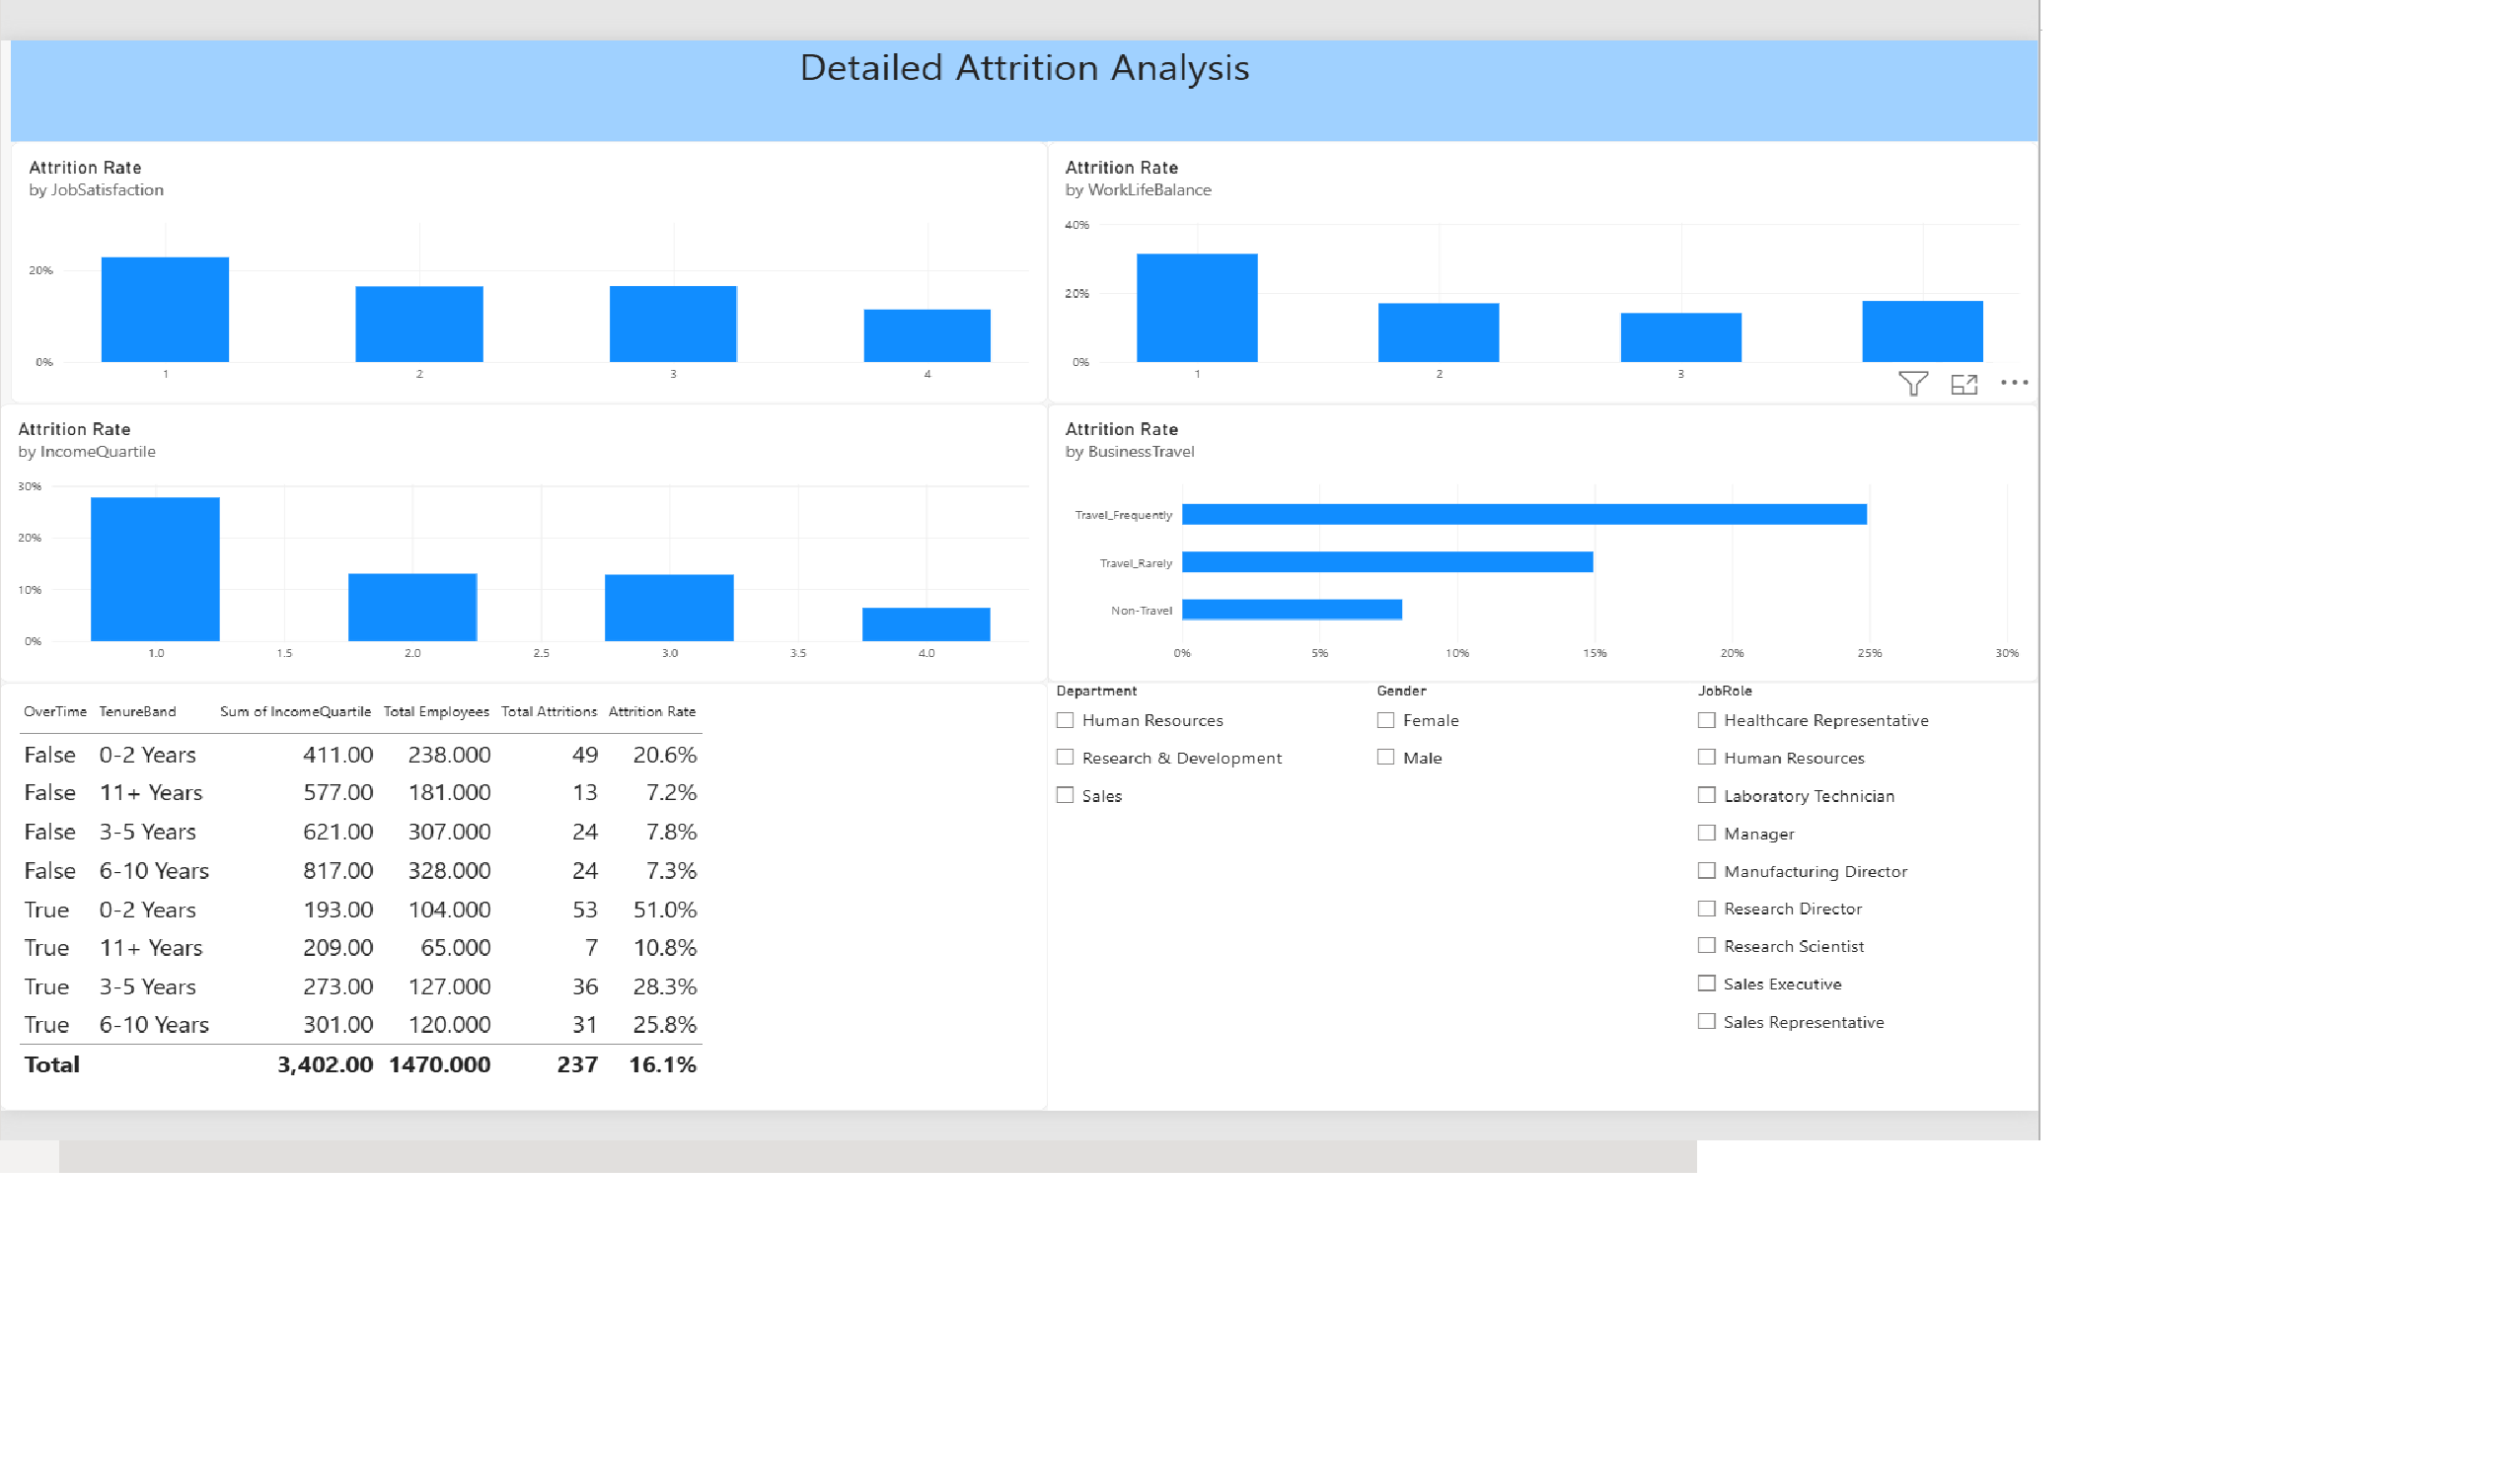

This screenshot's page, from the dashboard's own definition file:
{"tool":"powerbi","page":{"name":"Detailed Analysis","canvas":[1920,1080],"ordinal":1},"visuals":[{"type":"textbox","box":[10.4,0,1910.2,102.5],"z":0},{"type":"clusteredColumnChart","fields":{"Category":["employees.JobSatisfaction"],"Y":["employees.Attrition Rate"]},"box":[10.4,102.5,976.8,264.2],"z":1000},{"type":"clusteredColumnChart","box":[987.2,102.5,933.4,238.1],"z":2000},{"type":"clusteredColumnChart","fields":{"Category":["employees.WorkLifeBalance"],"Y":["employees.Attrition Rate"]},"box":[987.2,102.5,933.4,264.2],"z":3000},{"type":"clusteredColumnChart","fields":{"Category":["employees.IncomeQuartile"],"Y":["employees.Attrition Rate"]},"box":[0,366.7,987.2,281.6],"z":4000},{"type":"clusteredBarChart","fields":{"Category":["employees.BusinessTravel"],"Y":["employees.Attrition Rate"]},"box":[987.2,366.7,933.4,281.6],"z":5000},{"type":"tableEx","fields":{"Values":["employees.OverTime","employees.TenureBand","Sum(employees.IncomeQuartile)","employees.Total Employees","employees.Total Attritions","employees.Attrition Rate"]},"box":[0,648.3,987.2,431],"z":6000},{"type":"slicer","fields":{"Values":["employees.Department"]},"box":[987.2,648.3,309.4,431],"z":7000},{"type":"slicer","fields":{"Values":["employees.JobRole"]},"box":[1592.1,648.3,328.5,431],"z":8000},{"type":"slicer","fields":{"Values":["employees.Gender"]},"box":[1289.7,648.3,302.4,431],"z":9000}]}

Visuals, with their boxes in screenshot pixels (x1, y1, x2, y2), scaled from the page's 1920x1080 canvas onto the 2520x1459 screenshot:
textbox: [x1=14, y1=0, x2=2519, y2=138]
clusteredColumnChart - employees.JobSatisfaction x employees.Attrition Rate: [x1=14, y1=138, x2=1296, y2=495]
clusteredColumnChart: [x1=1296, y1=138, x2=2519, y2=460]
clusteredColumnChart - employees.WorkLifeBalance x employees.Attrition Rate: [x1=1296, y1=138, x2=2519, y2=495]
clusteredColumnChart - employees.IncomeQuartile x employees.Attrition Rate: [x1=0, y1=495, x2=1296, y2=876]
clusteredBarChart - employees.BusinessTravel x employees.Attrition Rate: [x1=1296, y1=495, x2=2519, y2=876]
tableEx - employees.OverTime x employees.TenureBand: [x1=0, y1=876, x2=1296, y2=1458]
slicer - employees.Department: [x1=1296, y1=876, x2=1702, y2=1458]
slicer - employees.JobRole: [x1=2090, y1=876, x2=2519, y2=1458]
slicer - employees.Gender: [x1=1693, y1=876, x2=2090, y2=1458]
